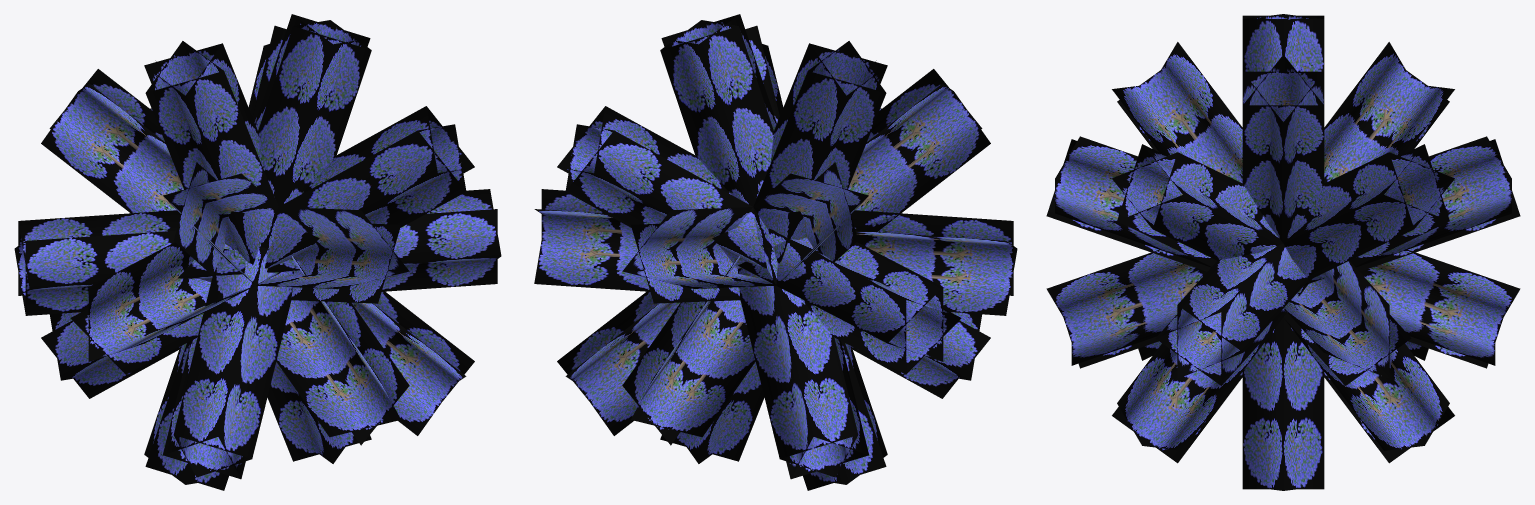
Rendered from StarGreatDodecahemicosacron7.gltf.
3 renders of one model, left to right at view 1: azimuth 30°, elevation 25°; view 2: azimuth 150°, elevation 25°; view 3: azimuth 270°, elevation 25°, orthographic.
Visible parts, largest first — view 1: StarGreatDodecahemicosacron; view 2: StarGreatDodecahemicosacron; view 3: StarGreatDodecahemicosacron.
Part boxes in pixels (x1=…): StarGreatDodecahemicosacron: x1=14, y1=14, x2=501, y2=490; StarGreatDodecahemicosacron: x1=534, y1=14, x2=1017, y2=490; StarGreatDodecahemicosacron: x1=1046, y1=14, x2=1520, y2=490.
Bounding box in the file's own units: 10.06 × 10.06 × 10.06.
Materials: 1 (1 with a texture image).
